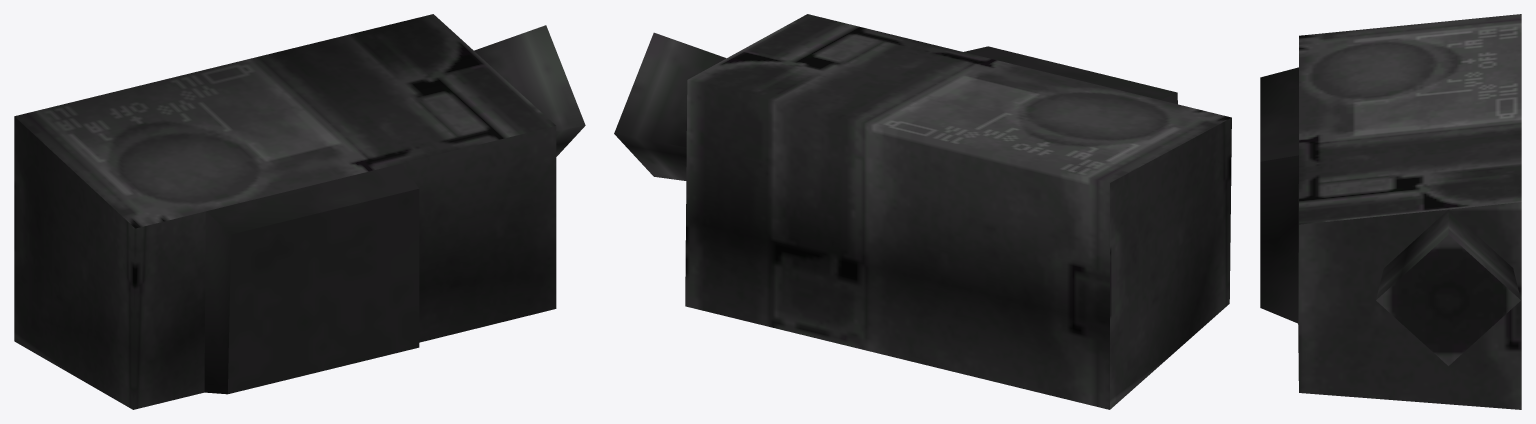
The model's file is t6_attach_wlp_world_LOD2.obj.
3 views of the same model, side by side, from view 1: azimuth 30°, elevation 25°; view 2: azimuth 150°, elevation 25°; view 3: azimuth 270°, elevation 25° (orthographic). The views are drawn at different scales.
Visible parts, largest first — view 1: mtl_t6_attach_wlp; view 2: mtl_t6_attach_wlp; view 3: mtl_t6_attach_wlp.
Part boxes in pixels (x1,y1,x2,y2): mtl_t6_attach_wlp: (14,14,585,409); mtl_t6_attach_wlp: (614,14,1231,409); mtl_t6_attach_wlp: (1260,14,1521,409).
Bounding box in the file's own units: 10.34 × 4.52 × 5.17.
